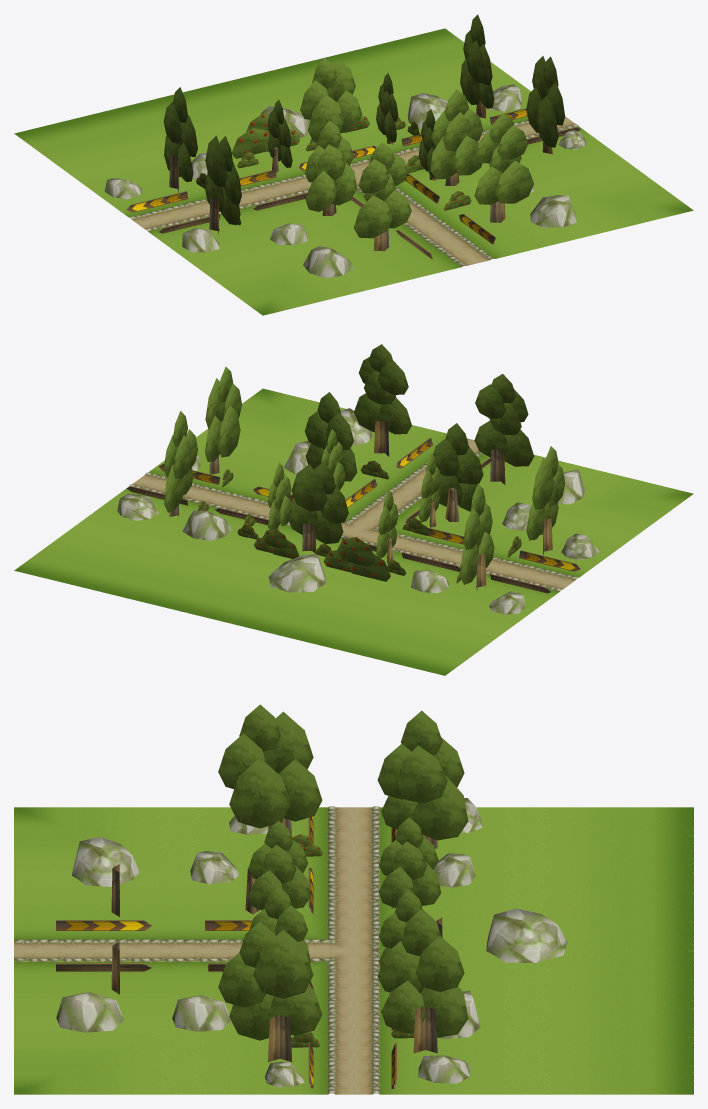
File: ForestRoad01_Both.FBX
3 views of the same model, one above another, from view 1: azimuth 30°, elevation 25°; view 2: azimuth 150°, elevation 25°; view 3: azimuth 270°, elevation 25° (orthographic). The views are drawn at different scales.
Parts seen in each view (by area): view 1: Road, Tree (×12), Stone (×8), Bush, Fence; view 2: Road, Tree (×13), Stone (×10), Bush (×2), Fence; view 3: Road, Tree (×8), Stone (×9), Fence (×2).
Boxes of the visible parts, x1,y1,x2,y2 form: Road: (14, 28, 693, 315); Tree (×12): (163, 14, 565, 251); Stone (×8): (104, 84, 576, 277); Bush: (231, 113, 300, 158); Fence: (127, 191, 188, 212); Road: (14, 388, 693, 675); Tree (×13): (163, 344, 565, 590); Stone (×10): (117, 408, 599, 614); Bush (×2): (254, 529, 390, 581); Fence: (519, 550, 580, 571); Road: (14, 806, 693, 1094); Tree (×8): (218, 704, 468, 1062); Stone (×9): (56, 837, 567, 1087); Fence (×2): (56, 920, 151, 971).
Bounding box in the file's own units: 10000 × 2537 × 10000.
